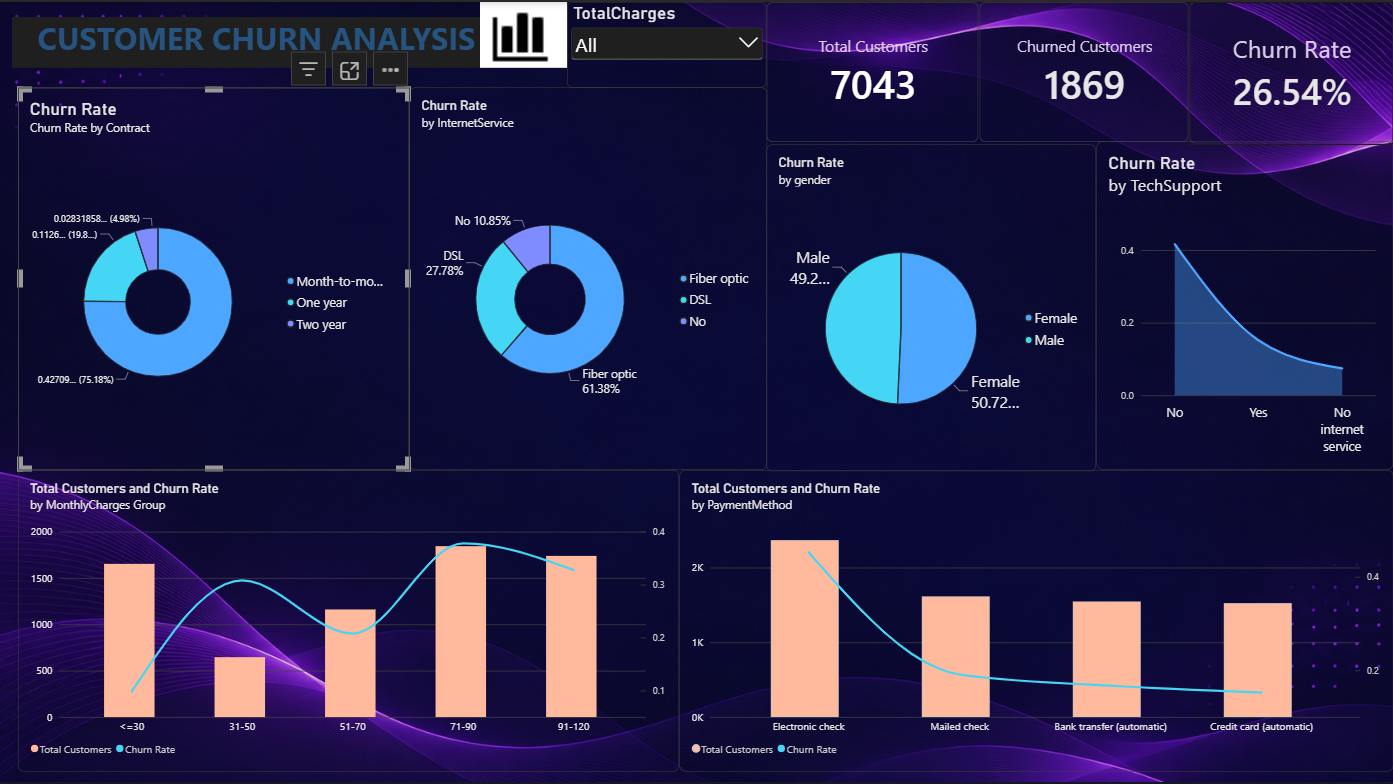

The page's visual inventory and layout, read from the dashboard file:
{"tool":"powerbi","page":{"name":"Page 1","canvas":[1920,1080],"ordinal":0},"visuals":[{"type":"textbox","box":[16.5,20.7,673.6,70.3],"z":0},{"type":"cardVisual","fields":{"Data":["Telco-Customer-Churn-Clean.Total Customers"]},"box":[1056.2,0,293,193.1],"z":1000},{"type":"image","box":[661.2,0,119.8,90.9],"z":2000},{"type":"cardVisual","fields":{"Data":["Telco-Customer-Churn-Clean.Churned Customers"]},"box":[1349.2,0,288.5,193.1],"z":3000},{"type":"cardVisual","fields":{"Data":["Telco-Customer-Churn-Clean.Churn Rate"]},"box":[1637.6,0,281.6,195.3],"z":4000},{"type":"slicer","fields":{"Values":["Telco-Customer-Churn-Clean.TotalCharges"]},"box":[781.3,0,274.8,118.1],"z":5000},{"type":"donutChart","title":"Churn Rate","fields":{"Category":["Telco-Customer-Churn-Clean.Contract"],"Y":["Telco-Customer-Churn-Clean.Churn Rate"]},"box":[25,118.1,538.3,526.9],"z":6000},{"type":"donutChart","fields":{"Category":["Telco-Customer-Churn-Clean.InternetService"],"Y":["Telco-Customer-Churn-Clean.Churn Rate"]},"box":[563.3,118.1,492.9,526.9],"z":7000},{"type":"donutChart","fields":{"Category":["Telco-Customer-Churn-Clean.gender"],"Y":["Telco-Customer-Churn-Clean.Churn Rate"]},"box":[1056.2,195.3,454.3,449.7],"z":8000},{"type":"areaChart","fields":{"Category":["Telco-Customer-Churn-Clean.TechSupport"],"Y":["Telco-Customer-Churn-Clean.Churn Rate"]},"box":[1510.4,193.1,408.8,452],"z":9000},{"type":"lineClusteredColumnComboChart","fields":{"Category":["Telco-Customer-Churn-Clean.PaymentMethod"],"Y":["Telco-Customer-Churn-Clean.Total Customers"],"Y2":["Telco-Customer-Churn-Clean.Churn Rate"]},"box":[935.8,645.1,983.5,415.6],"z":10000},{"type":"lineClusteredColumnComboChart","fields":{"Category":["Telco-Customer-Churn-Clean.MonthlyCharges Group"],"Y":["Telco-Customer-Churn-Clean.Total Customers"],"Y2":["Telco-Customer-Churn-Clean.Churn Rate"]},"box":[25,645.1,910.8,415.6],"z":11000}]}

Visuals, with their boxes on the page's 1920x1080 design canvas (x1, y1, x2, y2). These are canvas units, not pixel positions in the 1393x784 screenshot, which may show the page scaled, cropped or inside an application window:
textbox: 16/21/690/91
cardVisual - Telco-Customer-Churn-Clean.Total Customers: 1056/0/1349/193
image: 661/0/781/91
cardVisual - Telco-Customer-Churn-Clean.Churned Customers: 1349/0/1638/193
cardVisual - Telco-Customer-Churn-Clean.Churn Rate: 1638/0/1919/195
slicer - Telco-Customer-Churn-Clean.TotalCharges: 781/0/1056/118
"Churn Rate" donutChart: 25/118/563/645
donutChart - Telco-Customer-Churn-Clean.InternetService x Telco-Customer-Churn-Clean.Churn Rate: 563/118/1056/645
donutChart - Telco-Customer-Churn-Clean.gender x Telco-Customer-Churn-Clean.Churn Rate: 1056/195/1510/645
areaChart - Telco-Customer-Churn-Clean.TechSupport x Telco-Customer-Churn-Clean.Churn Rate: 1510/193/1919/645
lineClusteredColumnComboChart - Telco-Customer-Churn-Clean.PaymentMethod x Telco-Customer-Churn-Clean.Total Customers: 936/645/1919/1061
lineClusteredColumnComboChart - Telco-Customer-Churn-Clean.MonthlyCharges Group x Telco-Customer-Churn-Clean.Total Customers: 25/645/936/1061
